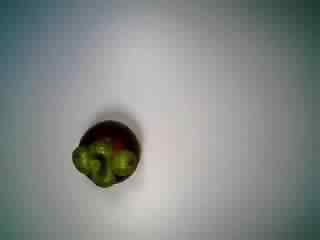mangosteen: (65, 115, 148, 190)
